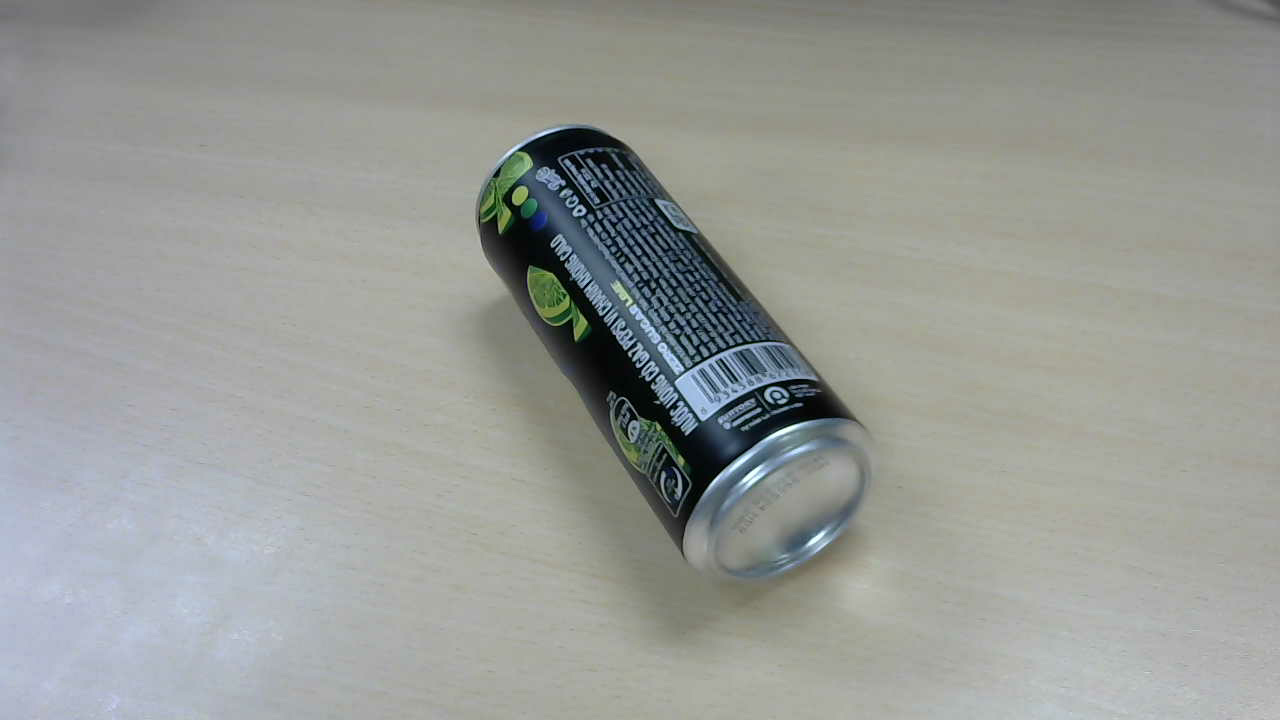Pepsi: (478, 125, 879, 584)
